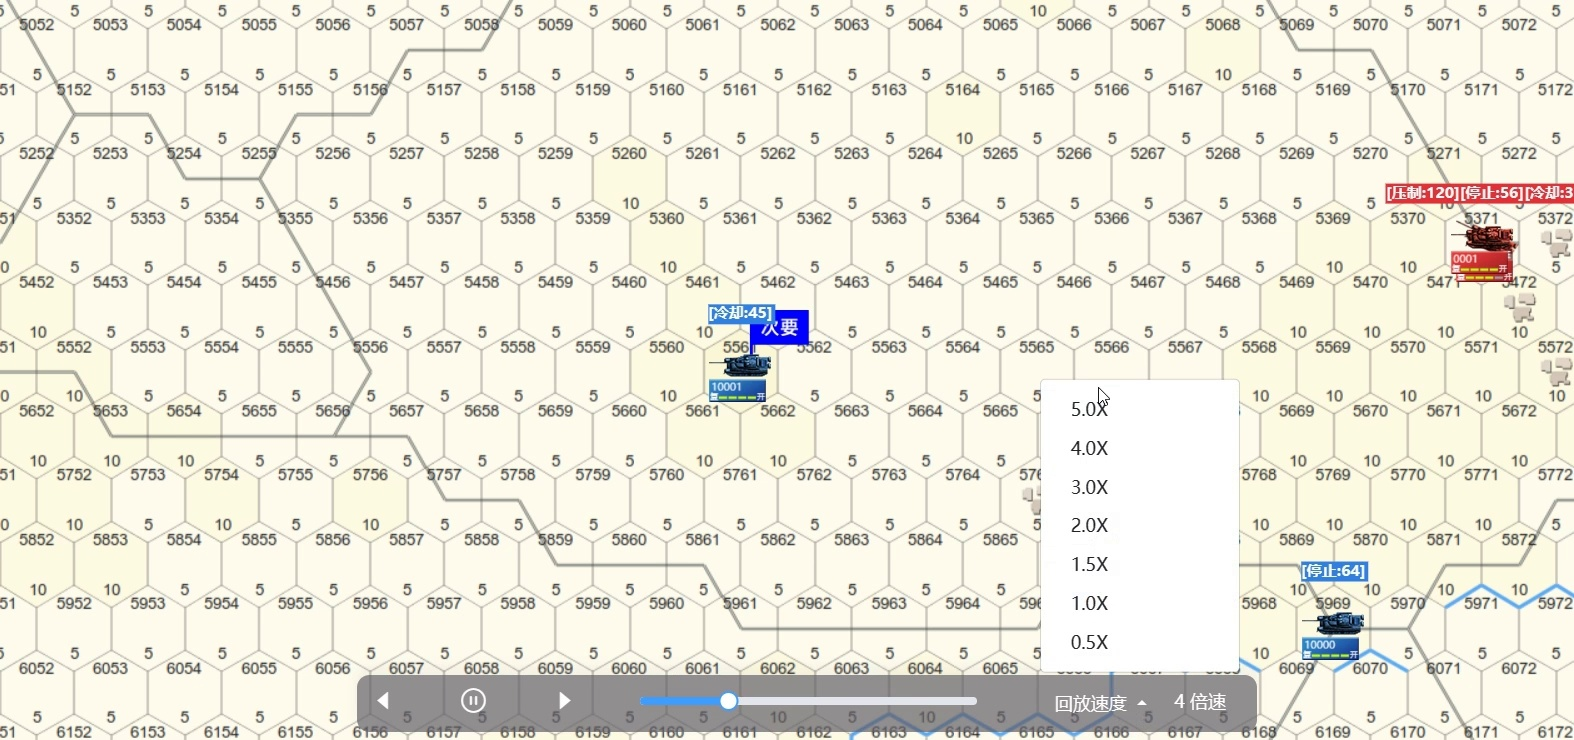blue_tank: (1304, 613, 1369, 661), (711, 351, 772, 400)
red_tank: (1457, 227, 1518, 280)
